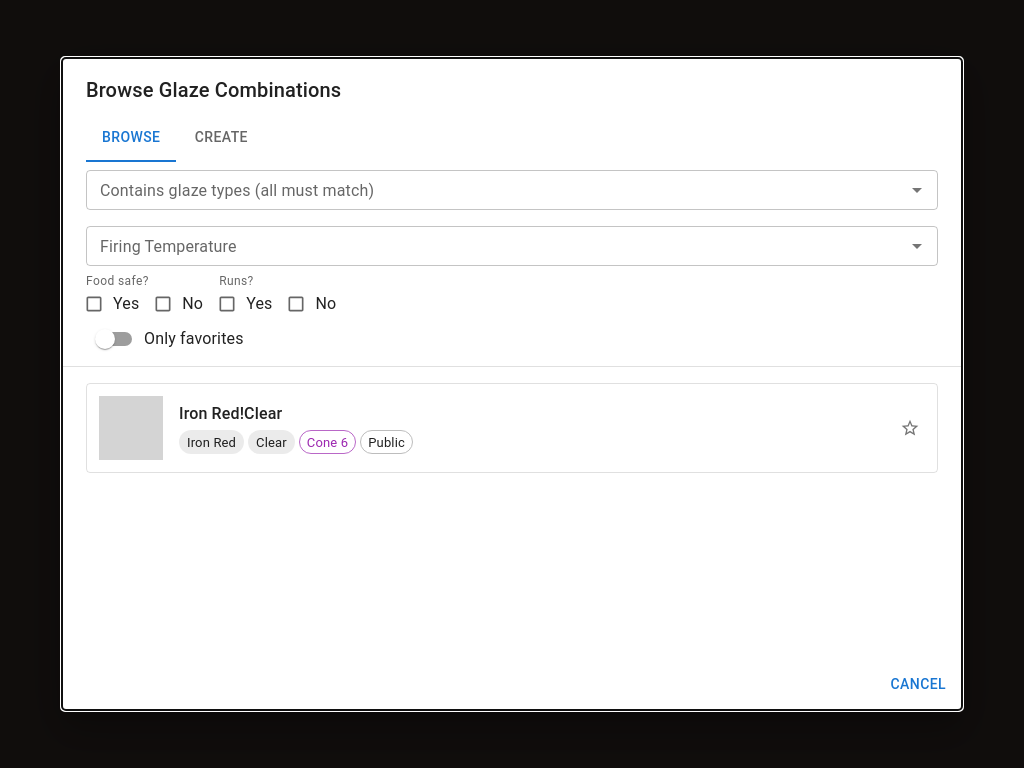
Test case: GlobalEntryDialog › disables removing the last glaze-combination layer row
Click the tab "Create" at (221, 138), box x1=176 y1=114 x2=266 y2=162
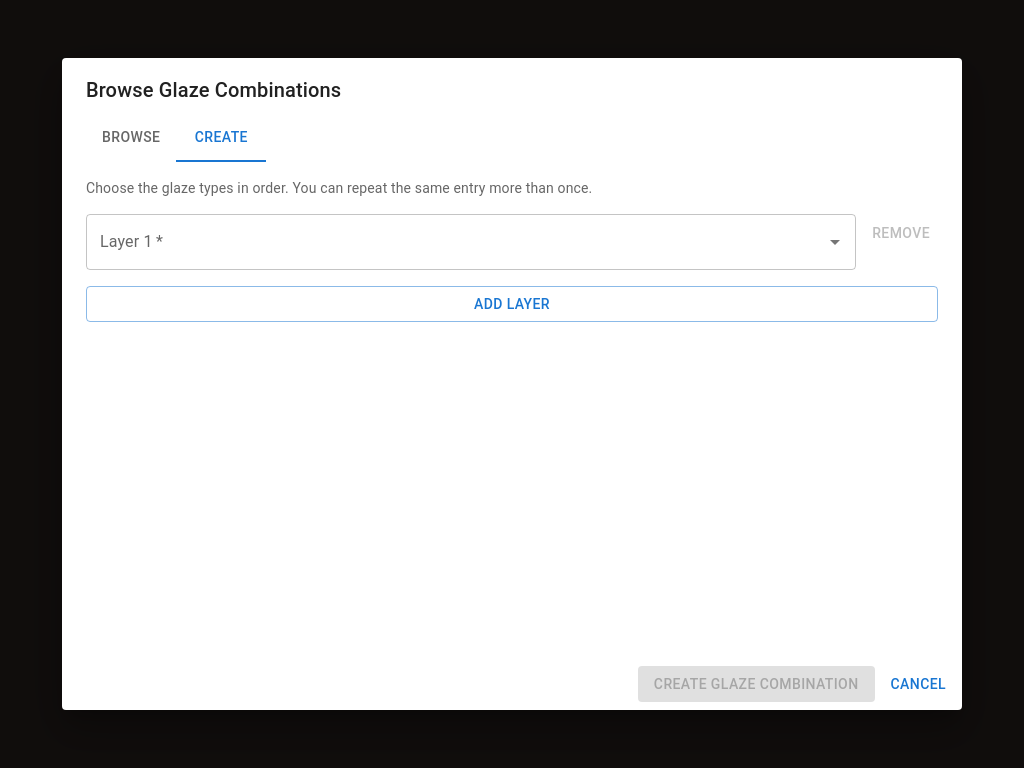
Check: the button "Remove" is disabled, box x1=864 y1=215 x2=938 y2=251
Check: the dropdown labelled "Layer 1" is shown, box x1=95 y1=223 x2=817 y2=261
